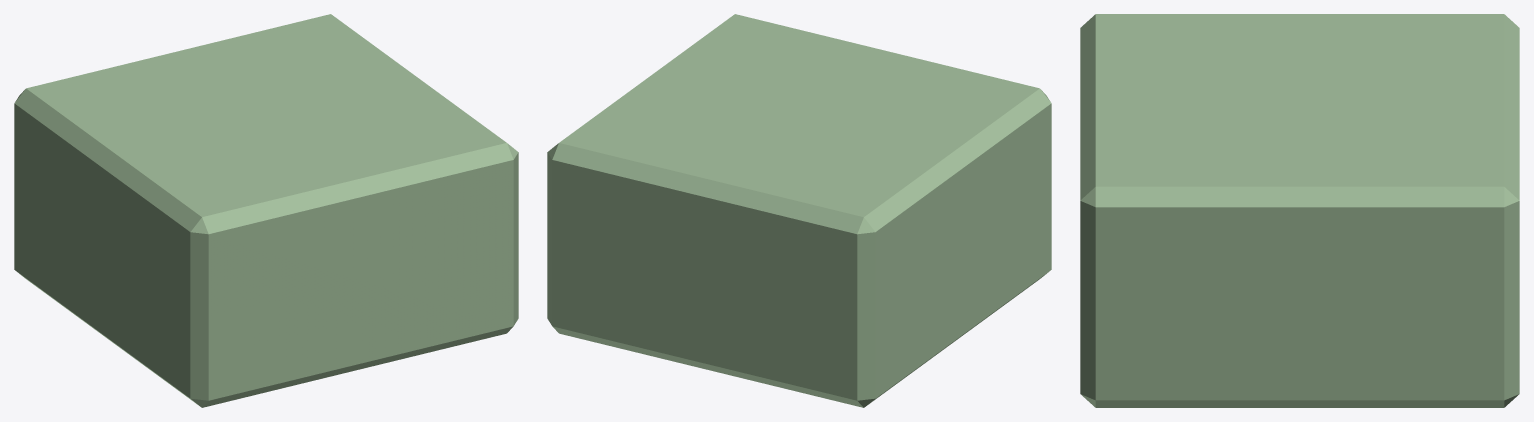
The model's file is ground_block.glb.
3 views of the same model, side by side, from view 1: azimuth 30°, elevation 25°; view 2: azimuth 150°, elevation 25°; view 3: azimuth 270°, elevation 25° (orthographic). The views are drawn at different scales.
Parts seen in each view (by area): view 1: Block; view 2: Block; view 3: Block.
Boxes of the visible parts, x1,y1,x2,y2 form: Block: [14, 14, 518, 407]; Block: [547, 14, 1051, 407]; Block: [1080, 14, 1519, 407].
Bounding box in the file's own units: 1.98 × 1.1 × 1.98.
